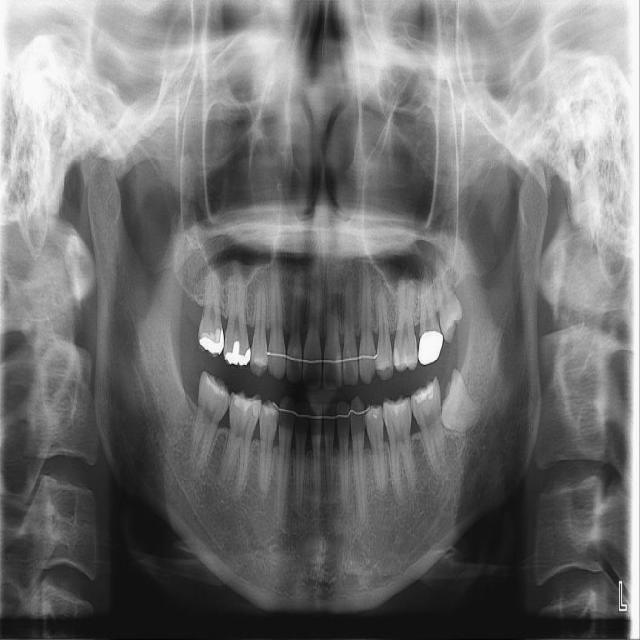Crown: (419, 330, 442, 365)
Filling: (220, 340, 252, 369), (203, 373, 231, 401), (197, 327, 226, 352), (229, 393, 260, 413), (385, 396, 411, 419), (411, 382, 437, 404), (393, 349, 416, 371), (261, 403, 279, 420)
impacted tooth: (441, 370, 484, 432)
